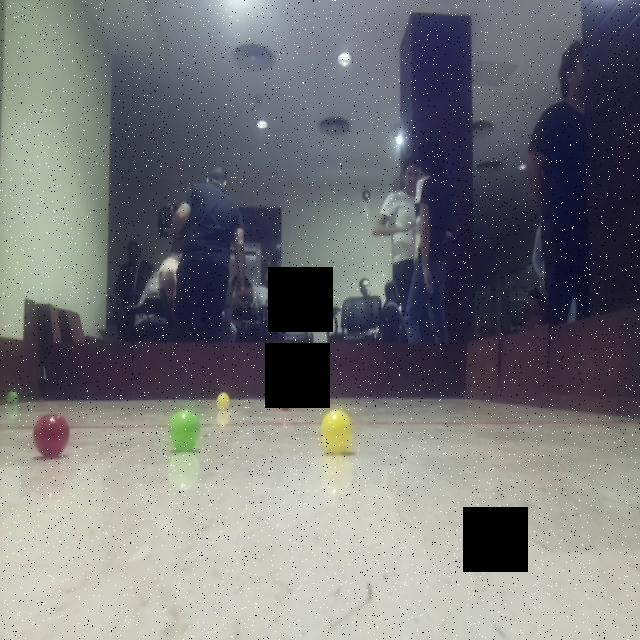ball: (164, 404, 206, 454), (213, 389, 236, 414), (276, 387, 298, 411), (5, 387, 24, 411)
